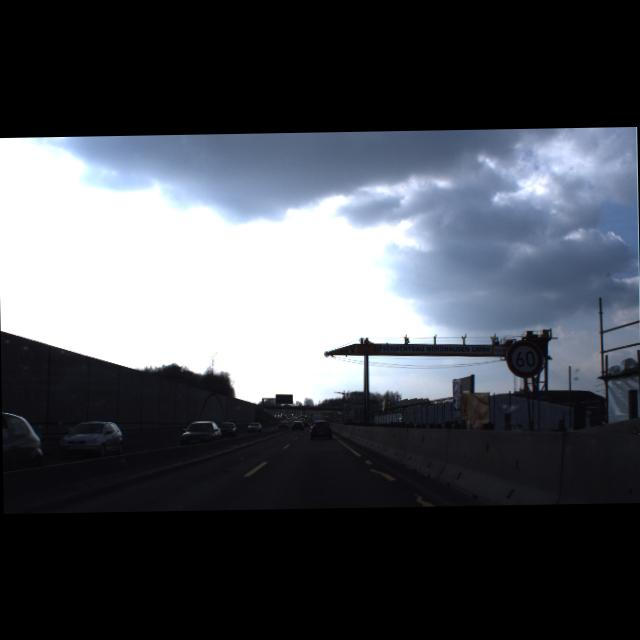prohibitory: (504, 338, 543, 378)
